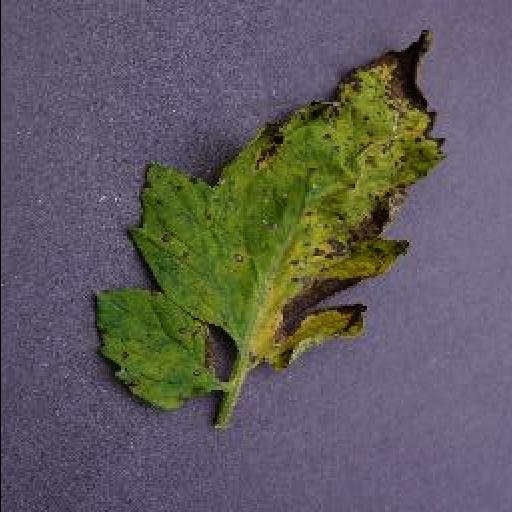disease_tomato: (94, 31, 444, 411)
